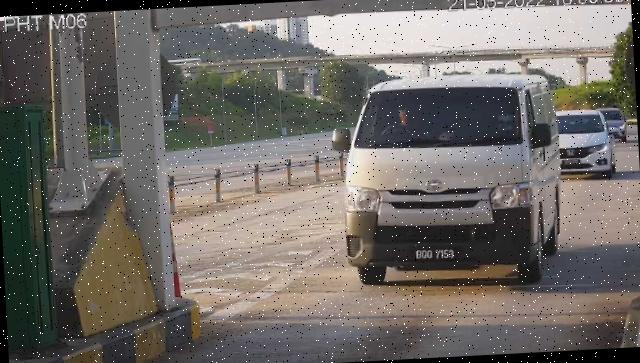License_Plate: (411, 243, 463, 269)
van: (340, 71, 568, 293)
